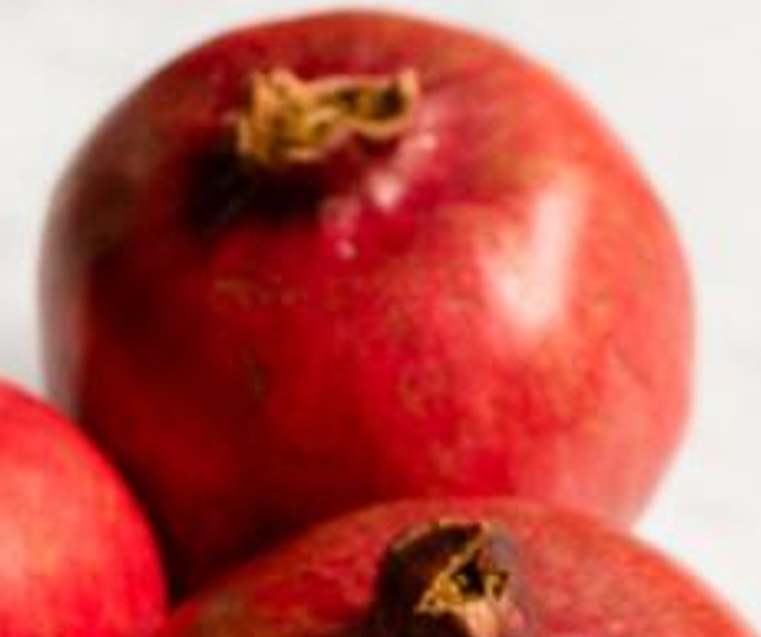pomegranate_A: (36, 7, 694, 597)
